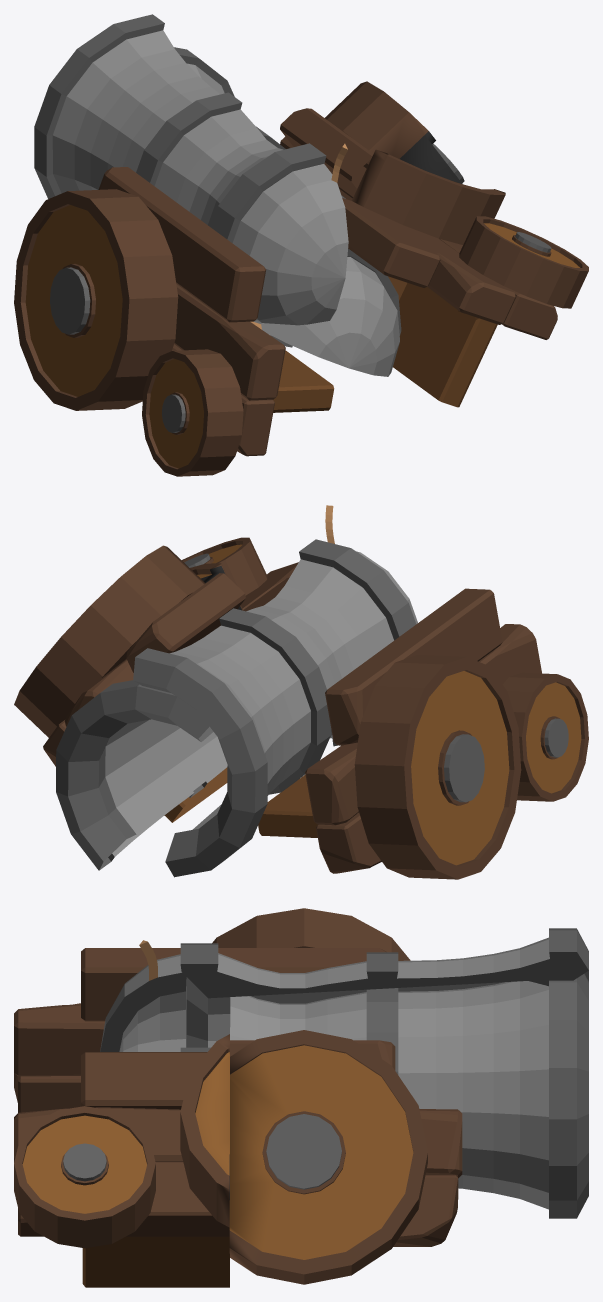
The model's file is CannonBroken.fbx.
3 views of the same model, one above another, from view 1: azimuth 30°, elevation 25°; view 2: azimuth 150°, elevation 25°; view 3: azimuth 270°, elevation 25° (orthographic). The views are drawn at different scales.
Visible parts, largest first — view 1: Wheels, Wheels.002, Wheels.001; view 2: Wheels, Wheels.001, Wheels.002; view 3: Wheels.001, Wheels.002, Wheels.
Part boxes in pixels (bbox=[...]): Wheels: bbox=[14, 14, 348, 476]; Wheels.002: bbox=[250, 149, 588, 407]; Wheels.001: bbox=[174, 47, 464, 300]; Wheels: bbox=[133, 505, 588, 879]; Wheels.001: bbox=[14, 545, 245, 870]; Wheels.002: bbox=[181, 537, 298, 611]; Wheels.001: bbox=[229, 973, 588, 1284]; Wheels.002: bbox=[14, 1034, 229, 1287]; Wheels: bbox=[14, 908, 588, 1112].
Size of the model in its own units: 532 by 310 by 538.
